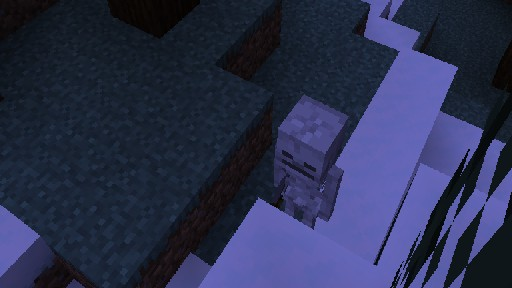skeleton: (265, 93, 349, 244)
